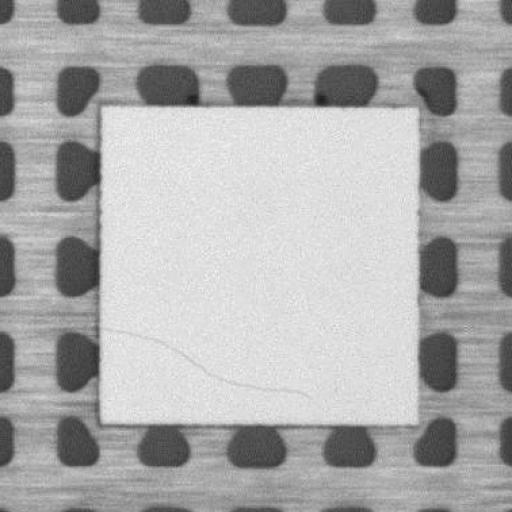DIE_CRACK: (99, 323, 306, 396)
